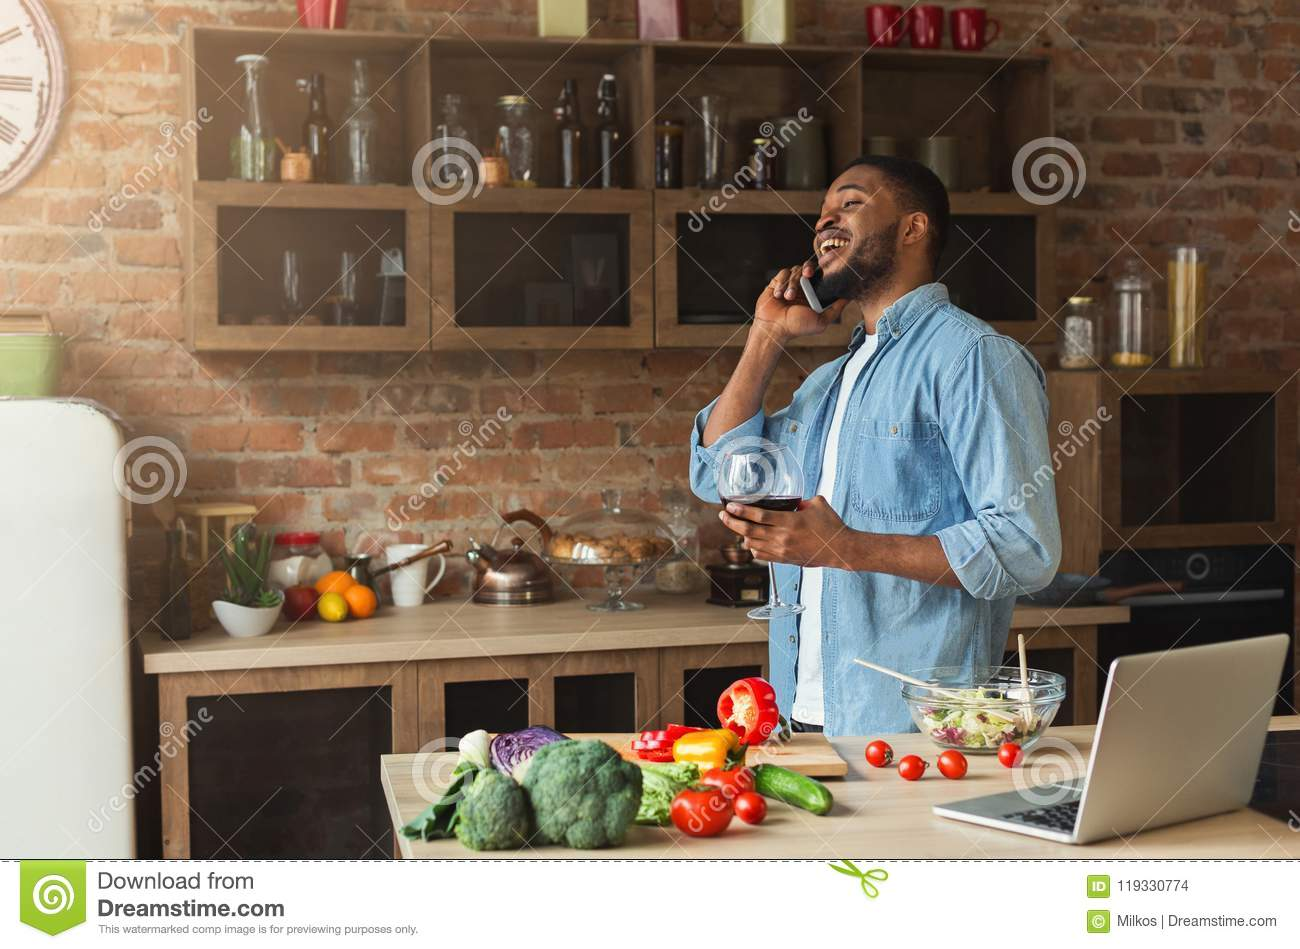phone: (801, 266, 836, 315)
talk: (755, 179, 874, 350)
